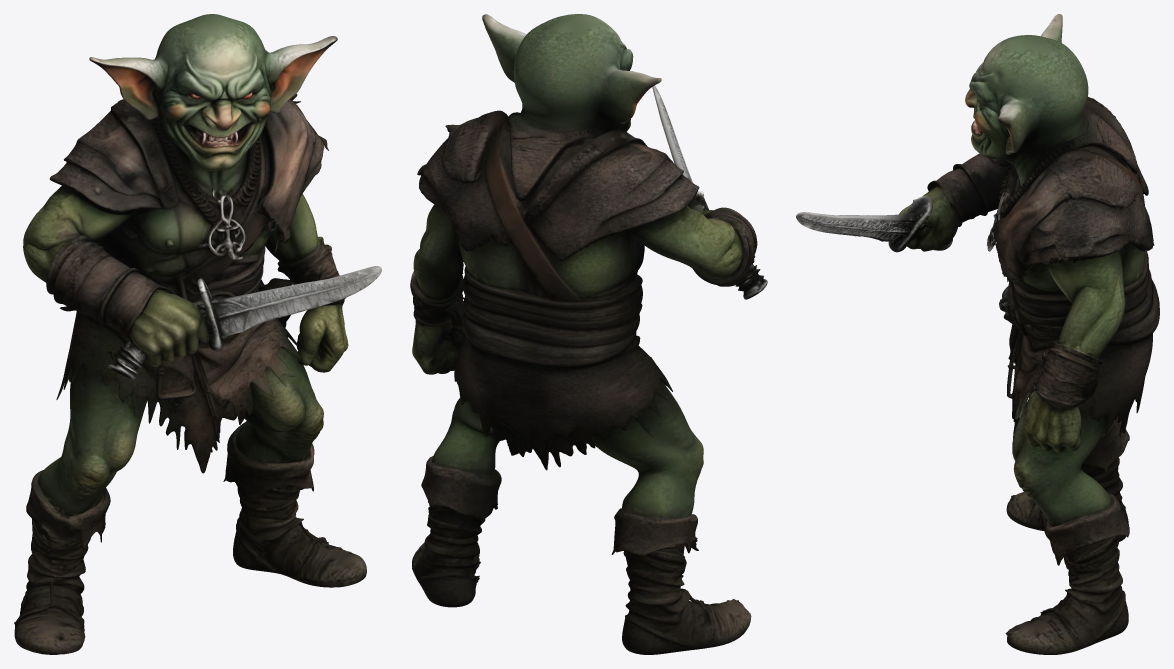
Rendered from goblin.glb.
The picture shows the model from 3 angles, left to right: view 1: azimuth 30°, elevation 25°; view 2: azimuth 150°, elevation 25°; view 3: azimuth 270°, elevation 25°; orthographic projection. The views are drawn at different scales.
Parts seen in each view (by area): view 1: material; view 2: material; view 3: material.
Boxes of the visible parts, bbox=[...] form: material: bbox=[14, 14, 381, 654]; material: bbox=[410, 14, 767, 654]; material: bbox=[796, 14, 1159, 654].
Bounding box in the file's own units: 0.605 × 1.01 × 0.6101.
1 material, 1 textured.
